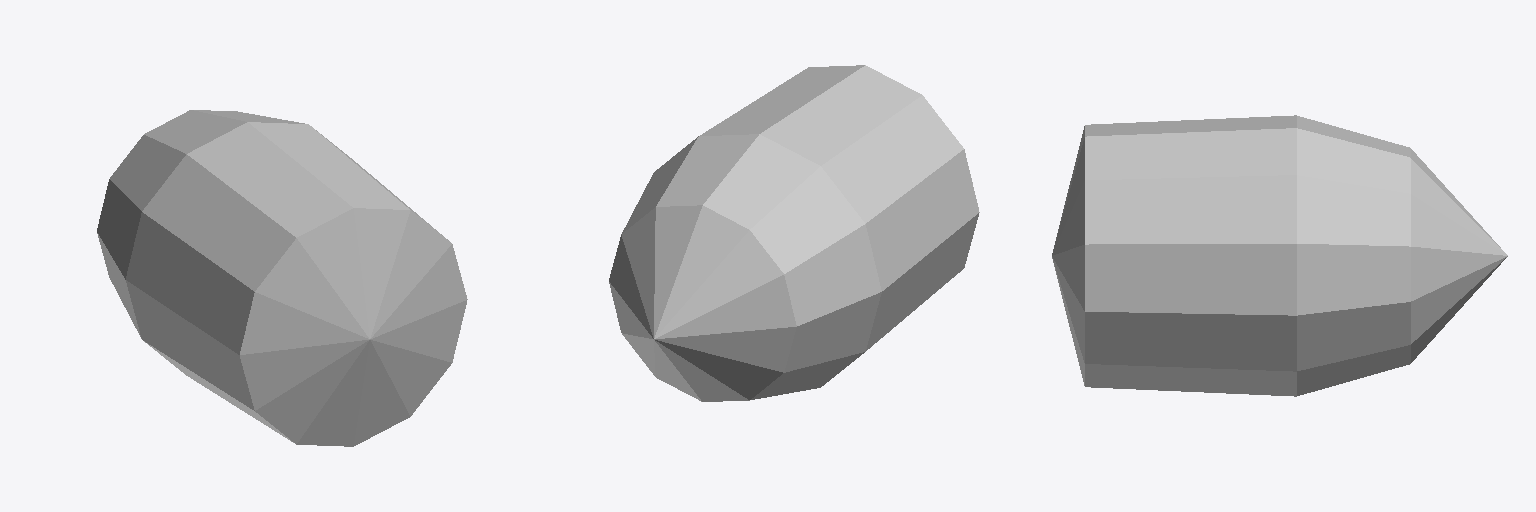
File: shell.obj
3 renders of one model, left to right at view 1: azimuth 30°, elevation 25°; view 2: azimuth 150°, elevation 25°; view 3: azimuth 270°, elevation 25°, orthographic.
Visible parts, largest first — view 1: Cylinder_Cylinder.001; view 2: Cylinder_Cylinder.001; view 3: Cylinder_Cylinder.001.
Boxes of the visible parts, x1,y1,x2,y2 form: Cylinder_Cylinder.001: [97, 110, 467, 446]; Cylinder_Cylinder.001: [609, 65, 979, 401]; Cylinder_Cylinder.001: [1052, 115, 1507, 396].
Size of the model in its own units: 0.6182 by 0.6182 by 0.9996.